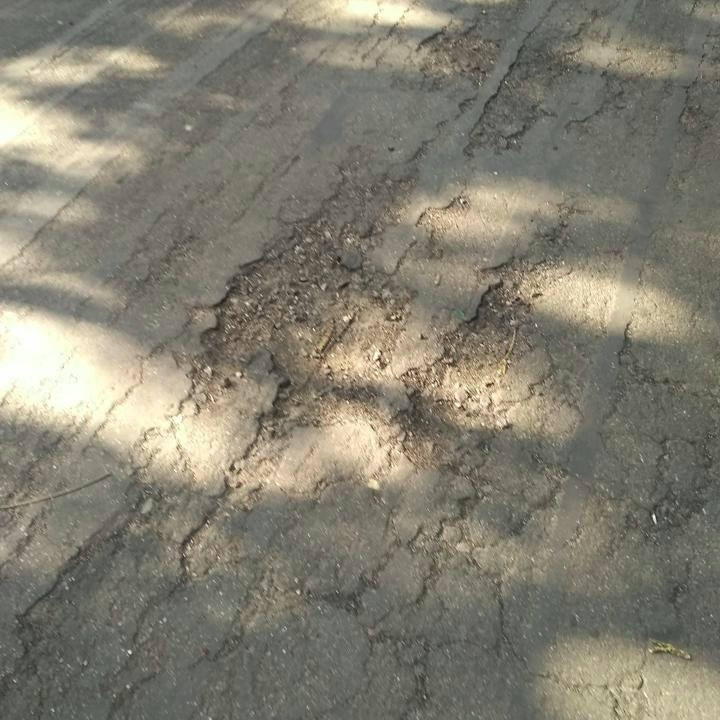pothole: (176, 228, 403, 435), (390, 276, 533, 468), (415, 16, 497, 93)
